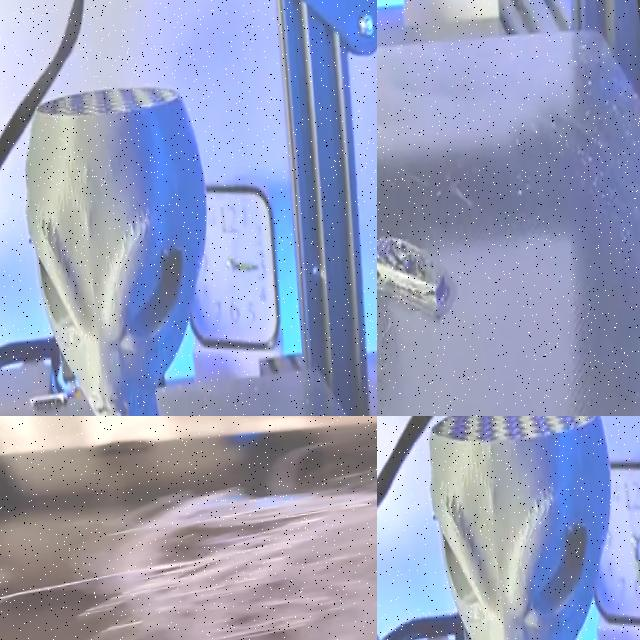spaghetti: (0, 428, 377, 640)
